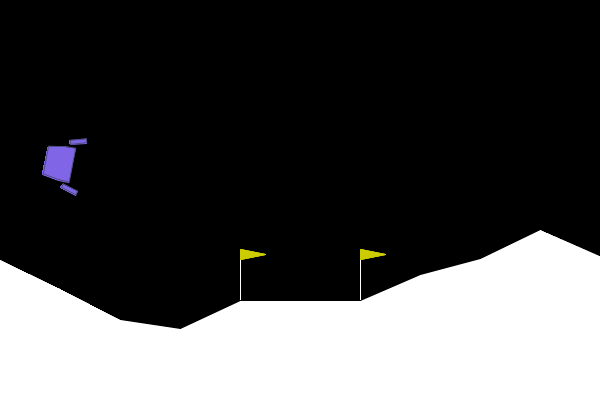lander: (38, 131, 88, 197)
